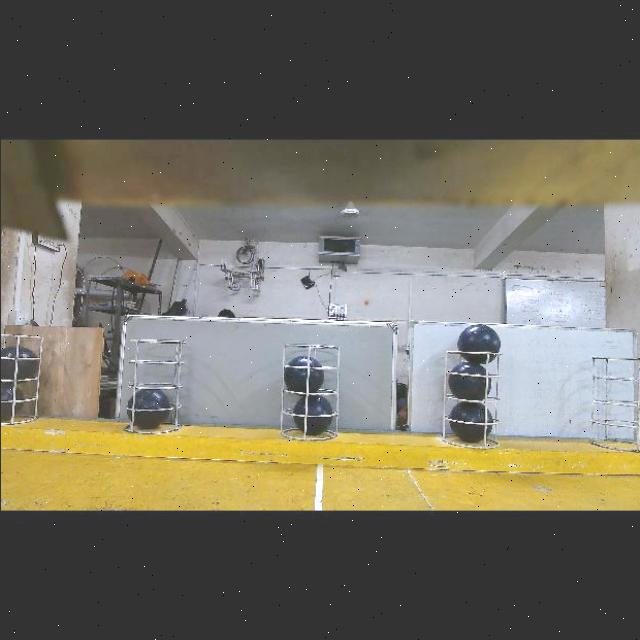P: (448, 402, 491, 443), (458, 324, 499, 364), (448, 362, 490, 400), (127, 390, 168, 428), (293, 395, 331, 434), (283, 355, 323, 392), (0, 347, 36, 384), (0, 382, 24, 420)
S: (274, 334, 338, 444), (115, 334, 188, 428), (439, 346, 498, 448), (584, 355, 640, 449), (0, 331, 42, 431)
